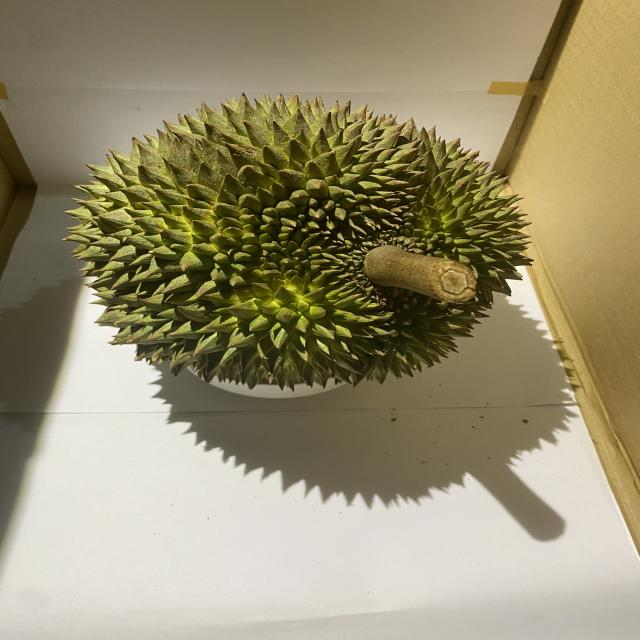immature: (62, 92, 538, 391)
